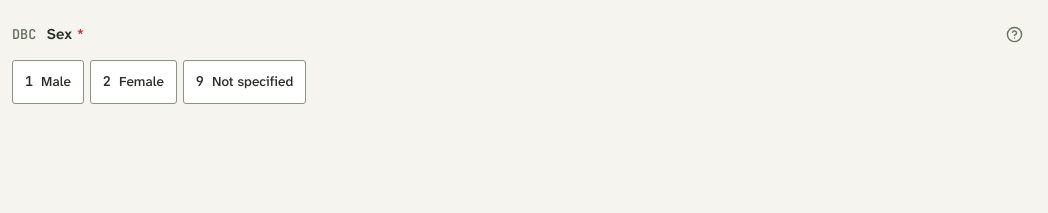
FieldInput — field help popover › closes when the form scrolls out from under it
The width and height of the screenshot is (1048, 213).
Click the button named "show help for DBC": coordinates (1014, 34) [992, 12, 1036, 56]
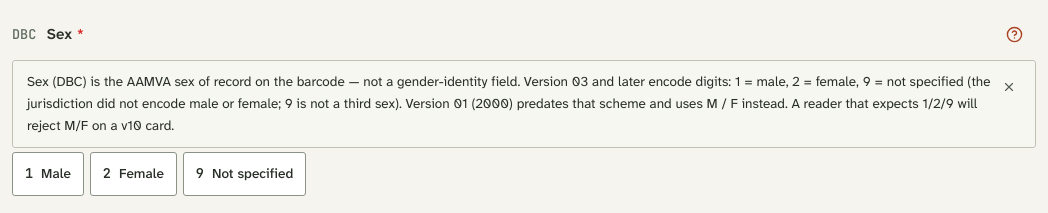
Now the tooltip is shown, box [12, 60, 1036, 148]
